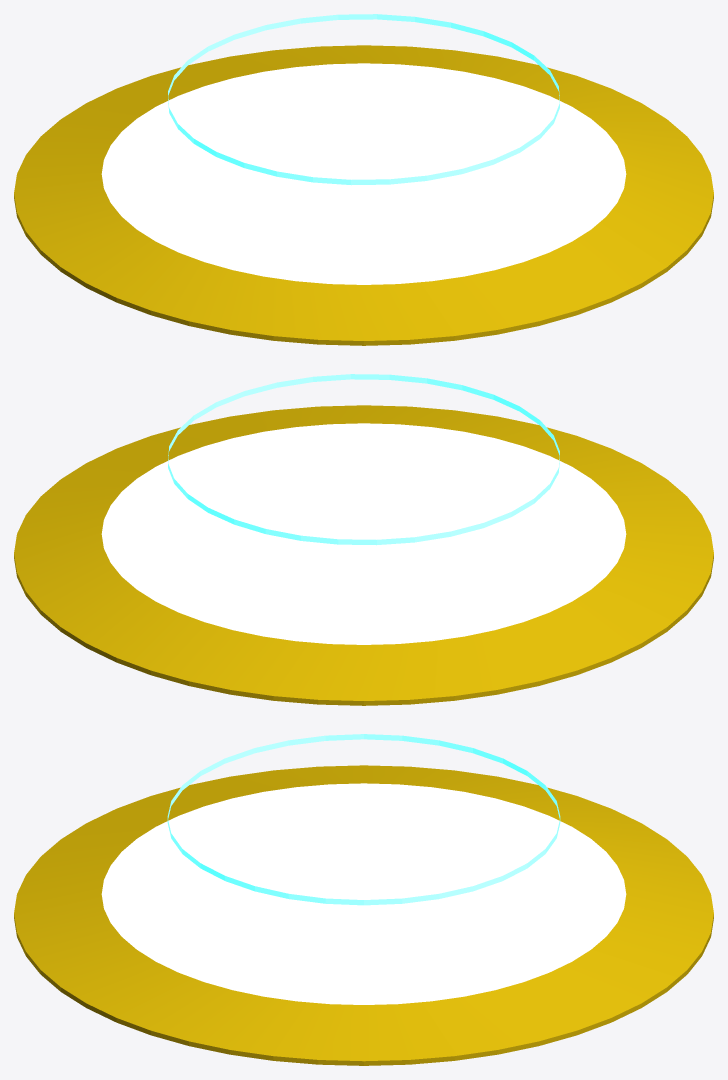
File: AutoPad.gltf
3 renders of one model, top to bottom at view 1: azimuth 30°, elevation 25°; view 2: azimuth 150°, elevation 25°; view 3: azimuth 270°, elevation 25°, orthographic.
Parts seen in each view (by area): view 1: Pad.001; view 2: Pad.001; view 3: Pad.001.
Part boxes in pixels (bbox=[...]): Pad.001: bbox=[14, 14, 713, 345]; Pad.001: bbox=[14, 374, 713, 705]; Pad.001: bbox=[14, 734, 713, 1065].
Size of what is drawn, in the model's own units: 3 by 0.5676 by 3.
